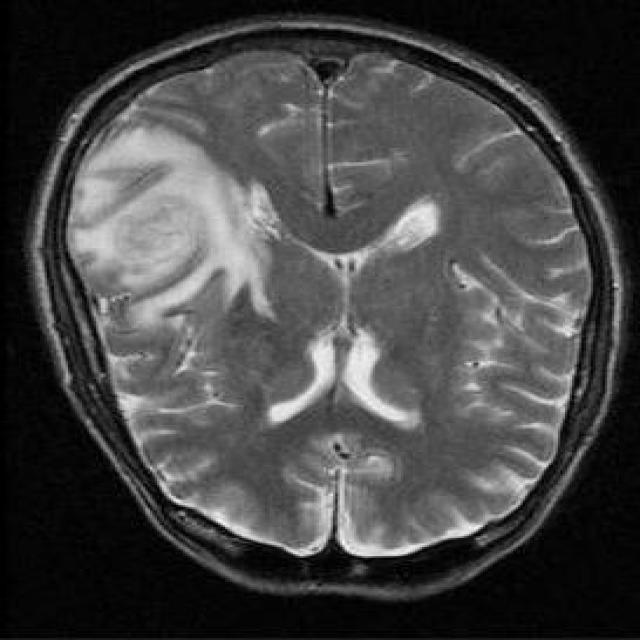Tumor-Cell: (74, 130, 284, 328)
